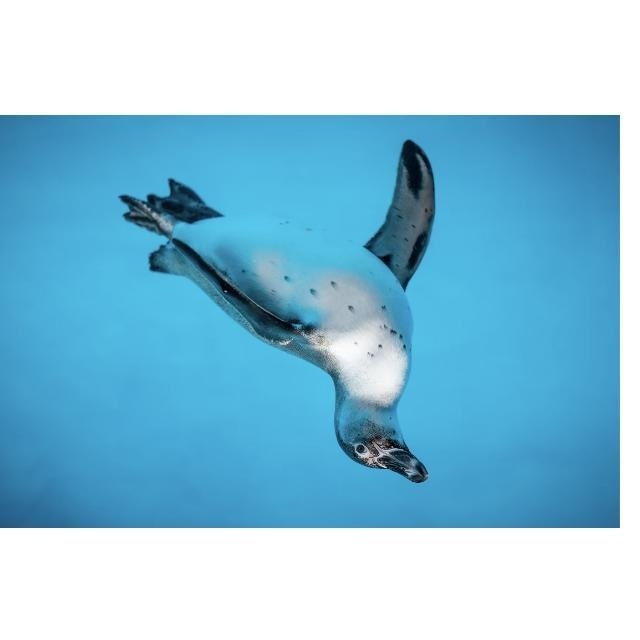penguin: (117, 140, 447, 484)
